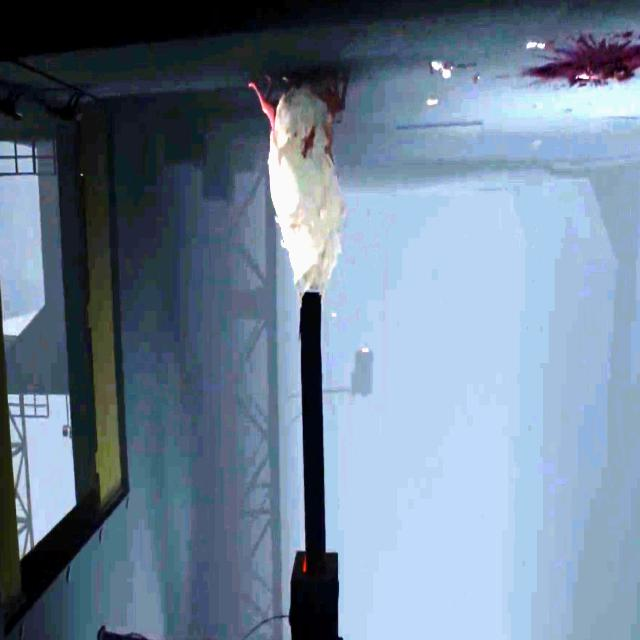blob: (249, 68, 342, 296)
dog: (45, 90, 81, 126), (0, 88, 23, 124)
interactible: (291, 549, 343, 640), (351, 347, 374, 399)
structure: (217, 123, 283, 640), (7, 396, 34, 560), (0, 144, 58, 179), (7, 394, 50, 420)
